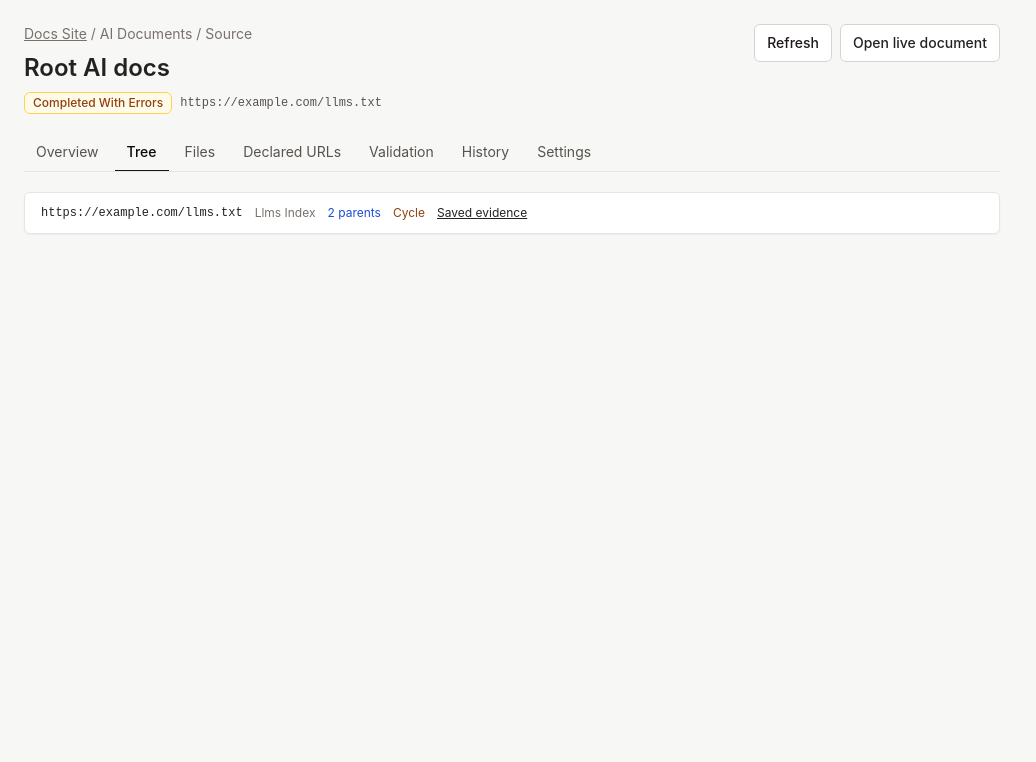
Test: AI Document Source workspace › shows tree provenance, files, validation, history, and safe settings
Expected: the heading "Root AI docs" is shown, [24, 53, 170, 82]
Expected: the text "2 parents" is shown, [328, 205, 381, 221]
Click the tab "Files": (200, 153) [172, 134, 227, 172]
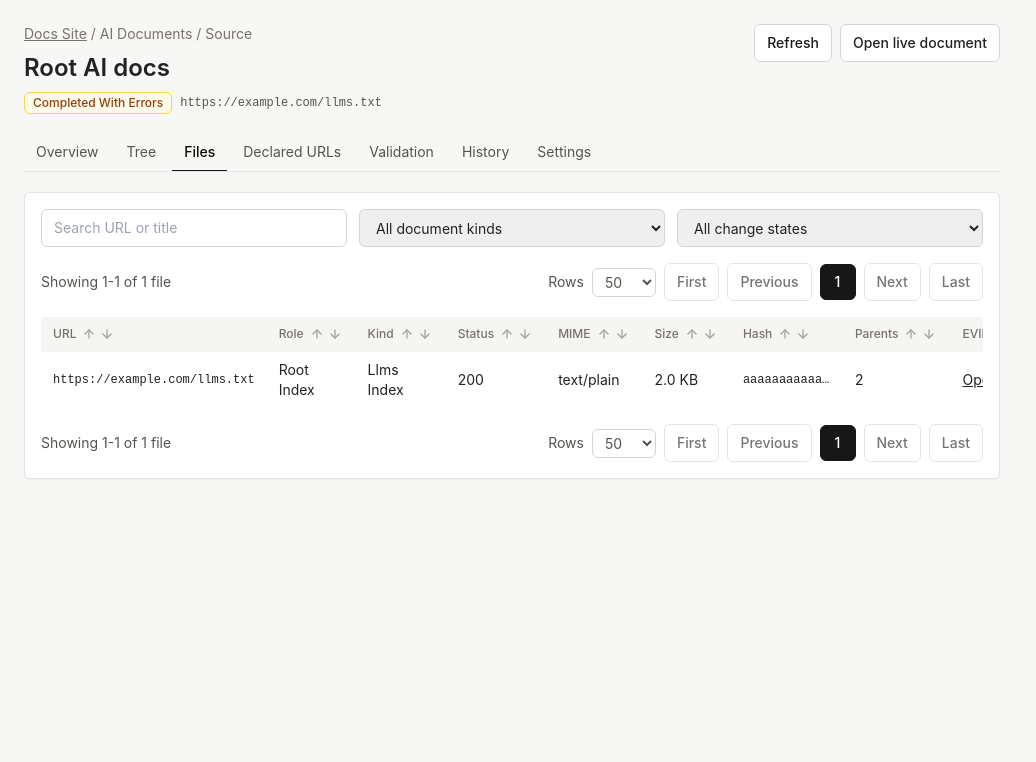
Click the tab "Declared URLs": (292, 153) [231, 134, 353, 172]
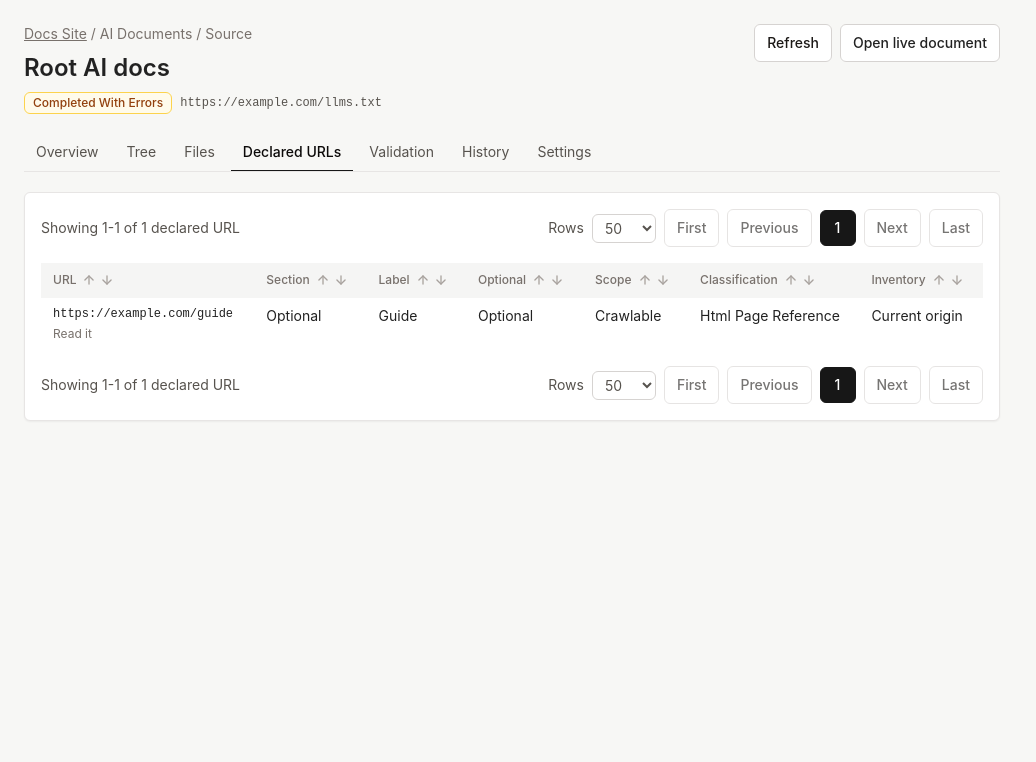
Result: the text "Current origin" is shown at [859, 298, 983, 350]
Result: the button "Optional" is shown at [478, 272, 526, 288]
Click the tab "Validation": (402, 153) [357, 134, 446, 172]
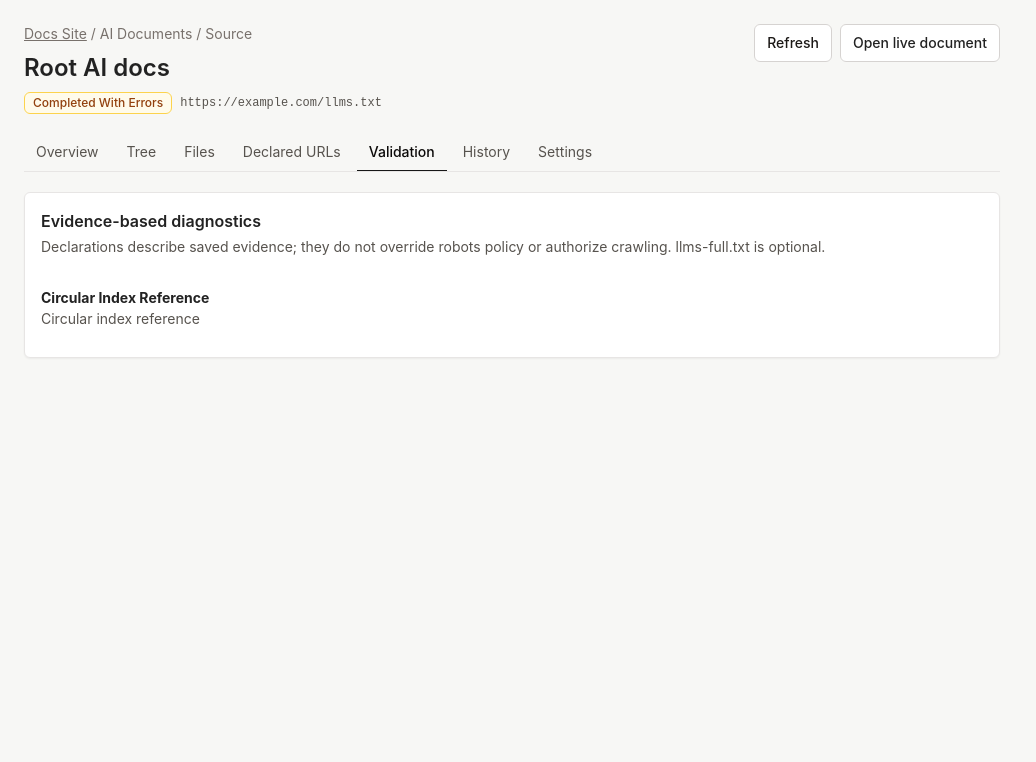
Result: the text "llms-full.txt is optional" is shown at [41, 238, 825, 255]
Result: the text "Circular index reference" is shown at [41, 310, 200, 327]
Click the tab "History": (486, 153) [451, 134, 522, 172]
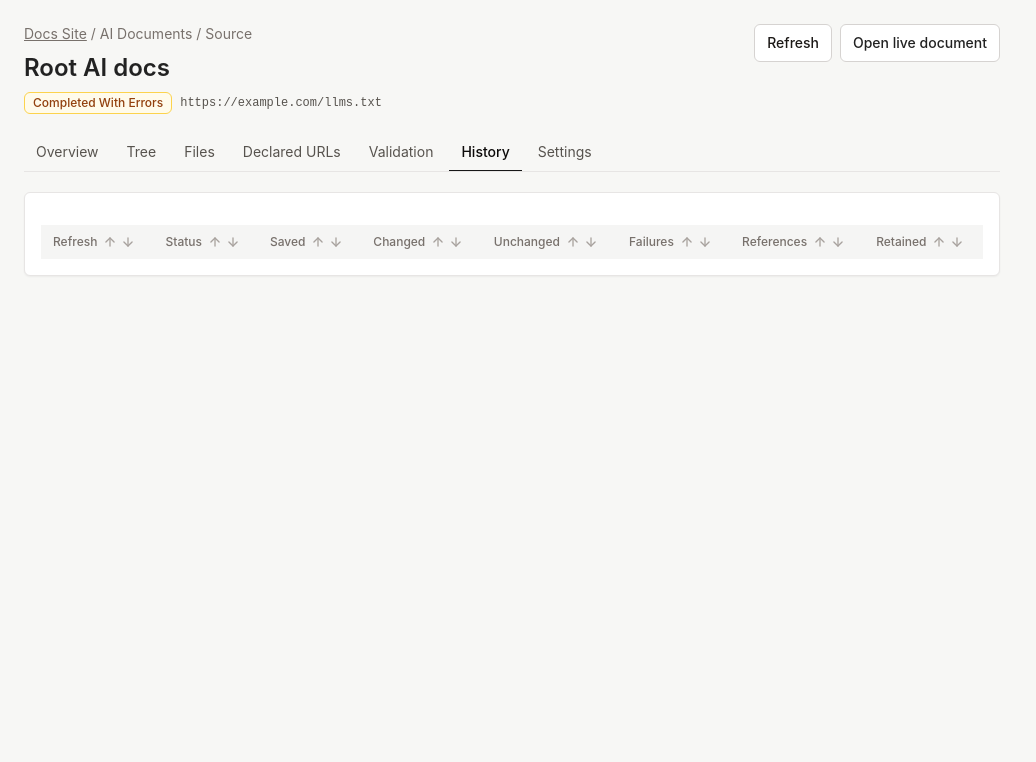
Result: the button "Unchanged" is shown at [494, 234, 560, 250]
Click the tab "Settings": (565, 153) [526, 134, 604, 172]
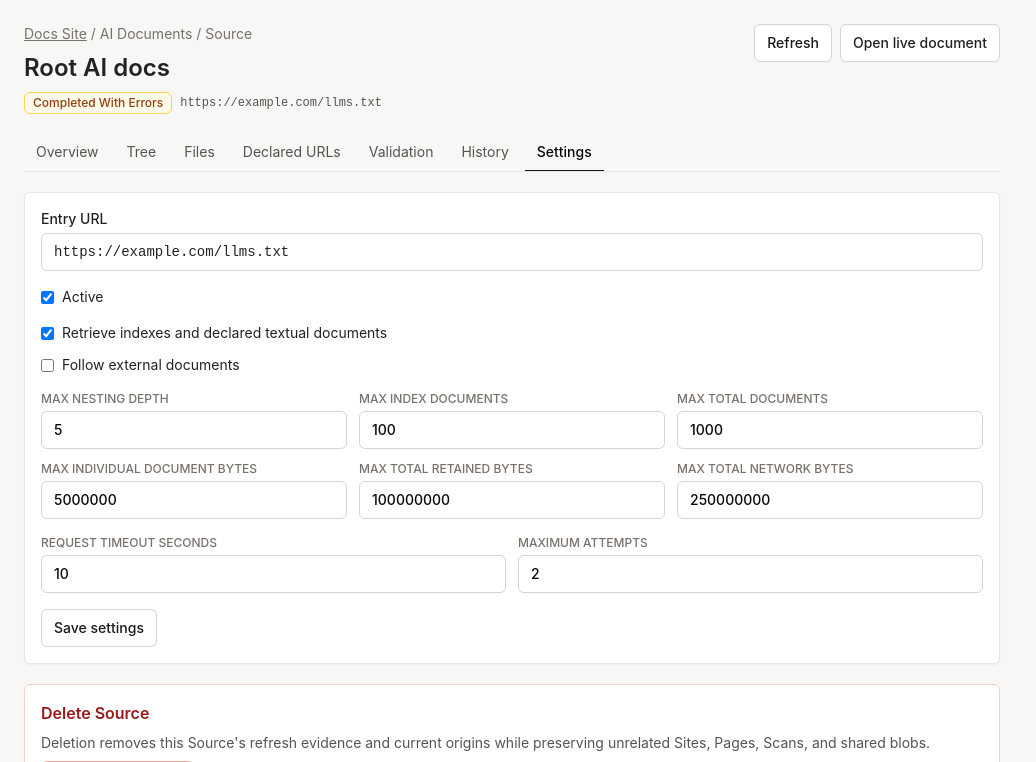
Result: the checkbox labelled "Follow external documents" is not checked at [41, 358, 54, 372]
Result: the number field labelled "Request timeout seconds" holds "10" at [41, 555, 506, 593]
Result: the number field labelled "Maximum attempts" holds "2" at [518, 555, 983, 593]
